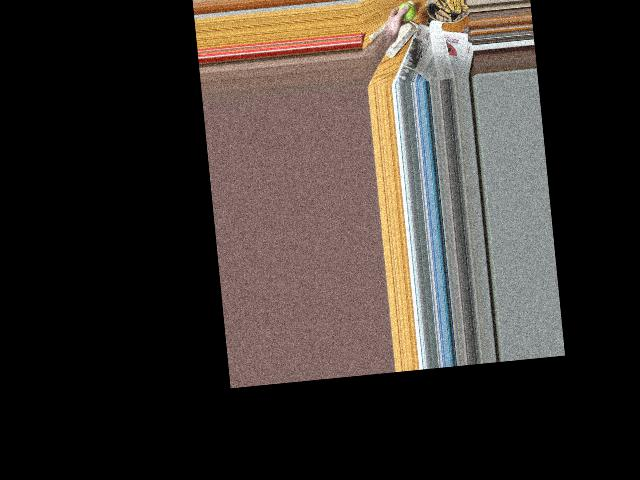apple: (396, 1, 416, 23)
